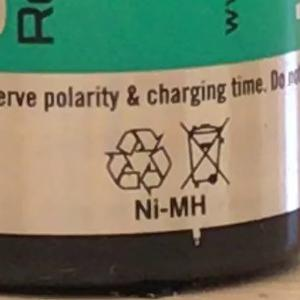NI-MH: (125, 184, 216, 230)
